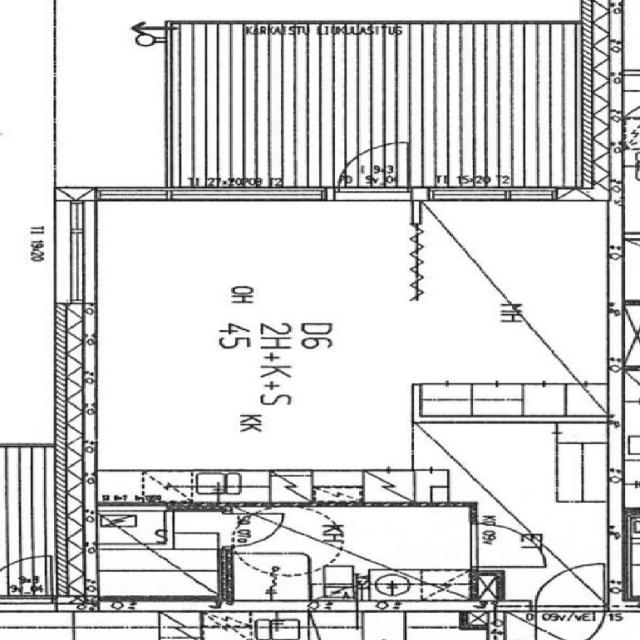door: (340, 146, 407, 202), (534, 562, 604, 612), (469, 524, 547, 567), (534, 605, 604, 640), (218, 513, 282, 546)
